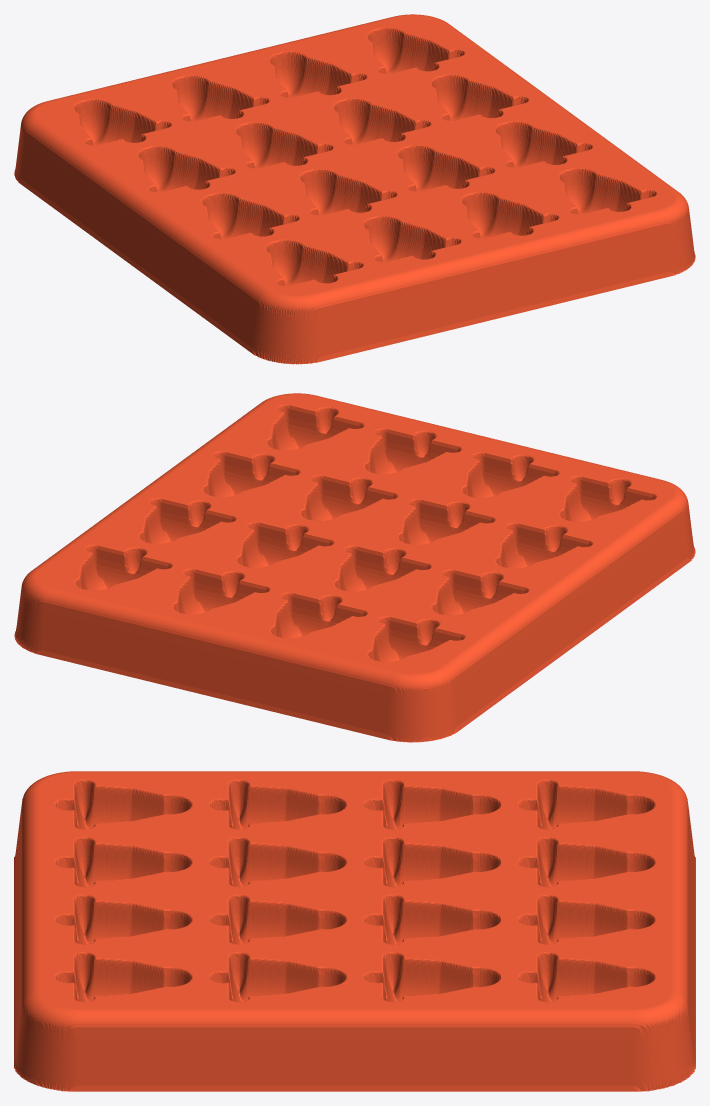
Rendered from mold.glb.
The picture shows the model from 3 angles, top to bottom: view 1: azimuth 30°, elevation 25°; view 2: azimuth 150°, elevation 25°; view 3: azimuth 270°, elevation 25°; orthographic projection. The views are drawn at different scales.
Parts seen in each view (by area): view 1: geometry_0; view 2: geometry_0; view 3: geometry_0.
Boxes of the visible parts, left/top/right/bottom form: geometry_0: left=14, top=14, right=695, bottom=364; geometry_0: left=14, top=393, right=695, bottom=742; geometry_0: left=14, top=771, right=695, bottom=1091.
Bounding box in the file's own units: 0.0868 × 0.0114 × 0.0972.
